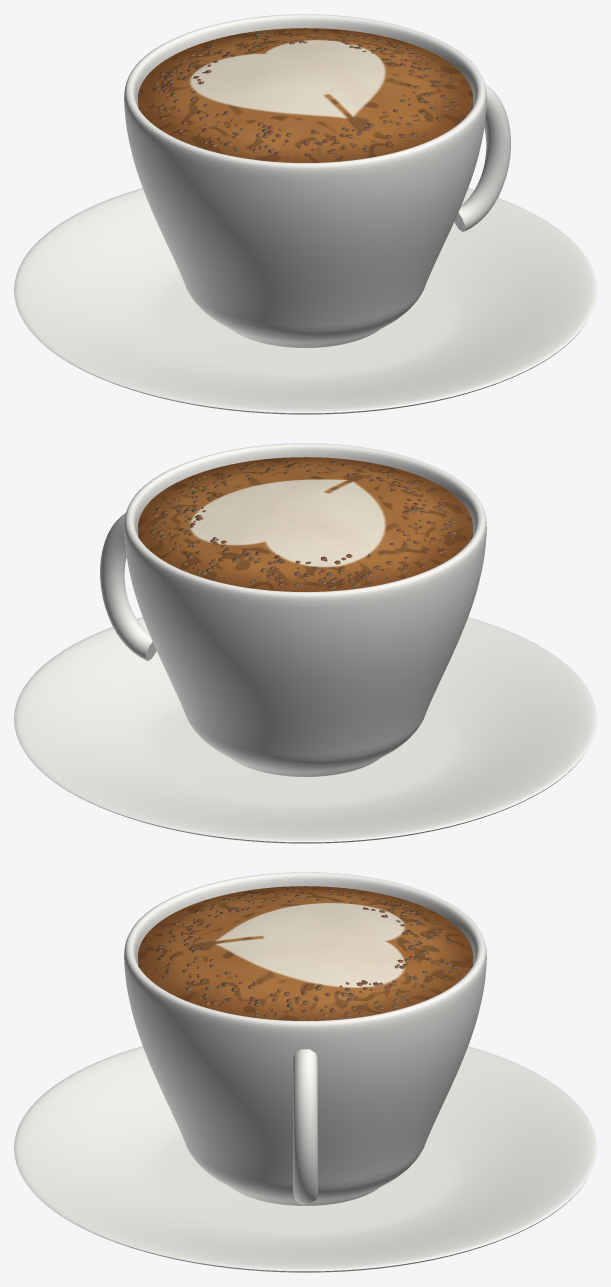
Rendered from cappuccino.glb.
The picture shows the model from 3 angles, top to bottom: view 1: azimuth 30°, elevation 25°; view 2: azimuth 150°, elevation 25°; view 3: azimuth 270°, elevation 25°; orthographic projection.
Parts seen in each view (by area): view 1: base, foam, cocoa; view 2: base, foam, cocoa; view 3: base, foam, cocoa.
Part boxes in pixels (left/top/right/bottom): base: left=14, top=14, right=596, bottom=414; foam: left=138, top=28, right=472, bottom=162; cocoa: left=151, top=31, right=458, bottom=158; base: left=14, top=443, right=596, bottom=843; foam: left=138, top=457, right=472, bottom=591; cocoa: left=150, top=460, right=456, bottom=590; base: left=14, top=872, right=596, bottom=1272; foam: left=138, top=886, right=472, bottom=1020; cocoa: left=156, top=888, right=458, bottom=1019.
Bounding box in the file's own units: 0.1474 × 0.072 × 0.1474.
Materials: 6 (2 with a texture image).
